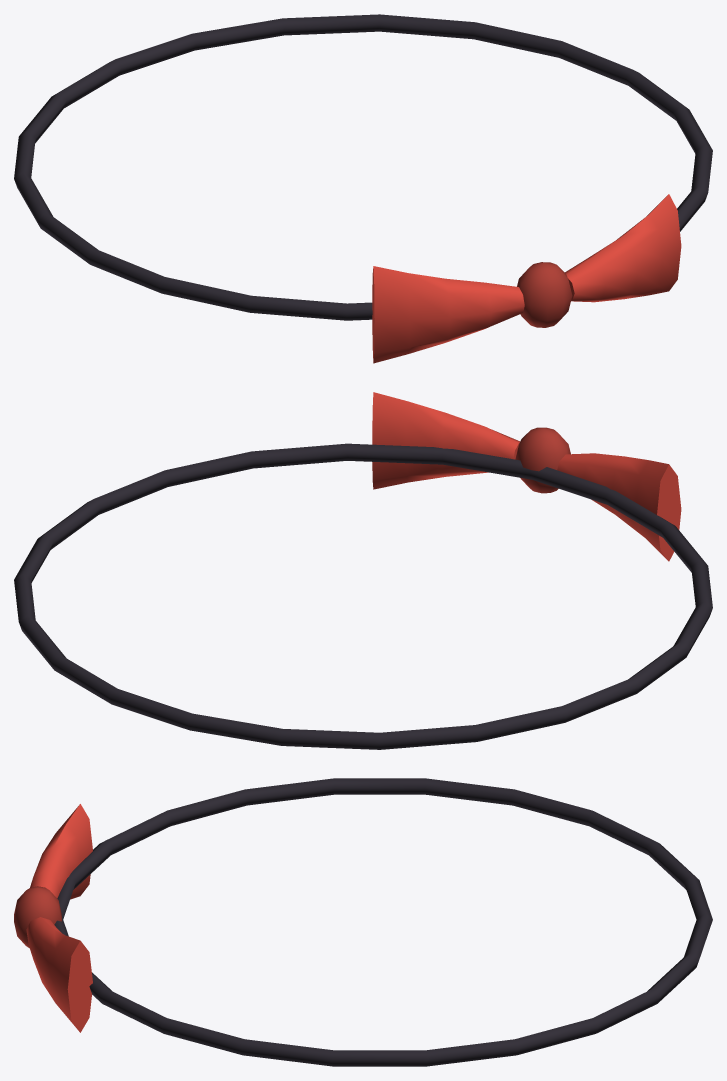
File: neck_bow_tie.glb
3 views of the same model, one above another, from view 1: azimuth 30°, elevation 25°; view 2: azimuth 150°, elevation 25°; view 3: azimuth 270°, elevation 25° (orthographic). The views are drawn at different scales.
Parts seen in each view (by area): view 1: Band, Wings, Knot; view 2: Band, Wings, Knot; view 3: Band, Wings, Knot.
Part boxes in pixels (<box>): Band: <box>14,14,712,320</box>; Wings: <box>372,194,681,363</box>; Knot: <box>517,262,572,327</box>; Band: <box>14,443,712,749</box>; Wings: <box>372,392,681,561</box>; Knot: <box>515,427,570,493</box>; Band: <box>54,778,712,1066</box>; Wings: <box>26,804,92,1032</box>; Knot: <box>14,886,61,947</box>.
Bounding box in the file's own units: 0.8392 × 0.13 × 0.8895.
